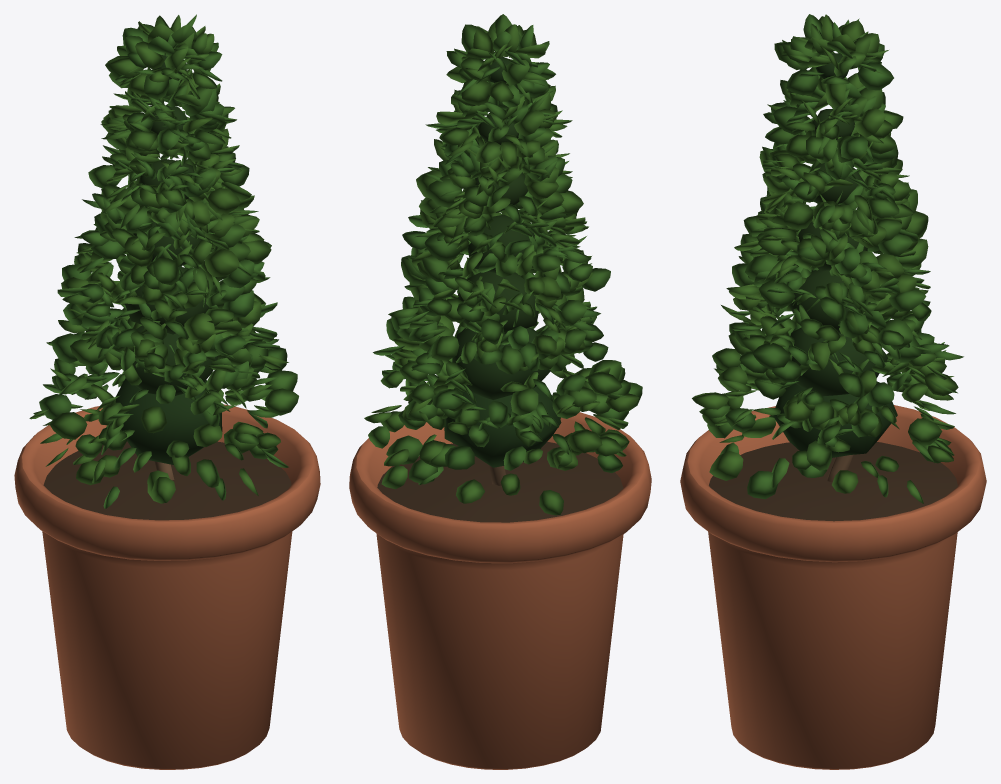
The model's file is pot_cone.glb.
3 renders of one model, left to right at view 1: azimuth 30°, elevation 25°; view 2: azimuth 150°, elevation 25°; view 3: azimuth 270°, elevation 25°, orthographic.
Visible parts, largest first — view 1: Sammel Putz, Sammel Pflanze, Sammel Blatt; view 2: Sammel Putz, Sammel Pflanze, Sammel Blatt; view 3: Sammel Putz, Sammel Pflanze, Sammel Blatt.
Boxes of the visible parts, x1,y1,x2,y2 form: Sammel Putz: [14, 404, 320, 769]; Sammel Pflanze: [29, 14, 298, 508]; Sammel Blatt: [115, 55, 222, 464]; Sammel Putz: [349, 412, 651, 769]; Sammel Pflanze: [364, 14, 642, 515]; Sammel Blatt: [444, 56, 561, 467]; Sammel Putz: [680, 405, 986, 769]; Sammel Pflanze: [692, 14, 963, 503]; Sammel Blatt: [773, 53, 897, 457].
Bounding box in the file's own units: 0.4778 × 1.22 × 0.4793.
